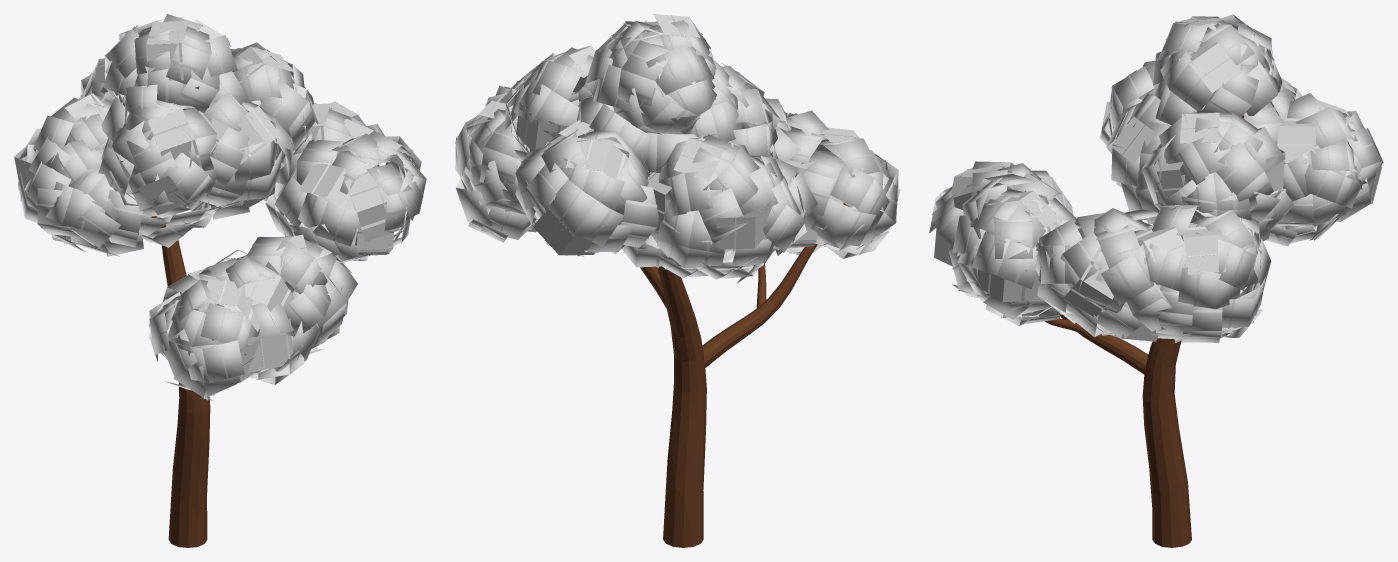
File: Tree_001.fbx
The picture shows the model from 3 angles, left to right: view 1: azimuth 30°, elevation 25°; view 2: azimuth 150°, elevation 25°; view 3: azimuth 270°, elevation 25°; orthographic projection. The views are drawn at different scales.
Parts seen in each view (by area): view 1: Trunk.001, Plane.192, Plane.241, Plane.160, Plane.019, Plane.099, Plane.077, Plane.248, Plane.238, Plane.159, Plane.001, Plane.028 (+62 smaller); view 2: Trunk.001, Plane.050, Branch1.001, Plane.072, Plane.210, Plane.222, Plane.080, Plane.014, Plane.036, Plane.023, Plane.030, Plane.171 (+50 smaller); view 3: Trunk.001, Plane.251, Plane.008, Plane.107, Plane.175, Plane.188, Plane.007, Plane.176, Plane.043, Plane.066, Plane.065, Plane.020 (+58 smaller).
Part boxes in pixels (bbox=[...]): Trunk.001: bbox=[161, 217, 210, 547]; Plane.192: bbox=[298, 192, 359, 246]; Plane.241: bbox=[177, 340, 244, 383]; Plane.160: bbox=[344, 169, 399, 241]; Plane.019: bbox=[259, 79, 314, 149]; Plane.099: bbox=[148, 108, 202, 168]; Plane.077: bbox=[166, 26, 211, 89]; Plane.248: bbox=[200, 303, 259, 355]; Plane.238: bbox=[265, 239, 327, 294]; Plane.159: bbox=[366, 164, 412, 230]; Plane.001: bbox=[233, 62, 293, 102]; Plane.028: bbox=[45, 182, 108, 233]; Trunk.001: bbox=[648, 171, 706, 547]; Plane.050: bbox=[548, 179, 623, 246]; Branch1.001: bbox=[702, 203, 848, 367]; Plane.072: bbox=[617, 40, 670, 106]; Plane.210: bbox=[805, 198, 875, 246]; Plane.222: bbox=[830, 161, 889, 231]; Plane.080: bbox=[646, 45, 714, 96]; Plane.014: bbox=[513, 79, 579, 136]; Plane.036: bbox=[659, 169, 725, 216]; Plane.023: bbox=[657, 207, 724, 253]; Plane.030: bbox=[716, 197, 773, 249]; Plane.171: bbox=[479, 120, 526, 184]; Trunk.001: bbox=[1142, 115, 1243, 547]; Plane.251: bbox=[971, 232, 1037, 289]; Plane.008: bbox=[1216, 142, 1273, 210]; Plane.107: bbox=[1160, 45, 1220, 110]; Plane.175: bbox=[1178, 268, 1240, 309]; Plane.188: bbox=[1101, 244, 1155, 305]; Plane.007: bbox=[1167, 131, 1233, 184]; Plane.176: bbox=[1182, 222, 1225, 274]; Plane.043: bbox=[1304, 154, 1360, 208]; Plane.066: bbox=[1202, 63, 1258, 116]; Plane.065: bbox=[1178, 42, 1241, 92]; Plane.020: bbox=[1182, 172, 1249, 214].
Bounding box in the file's own units: 534 × 754 × 596.
